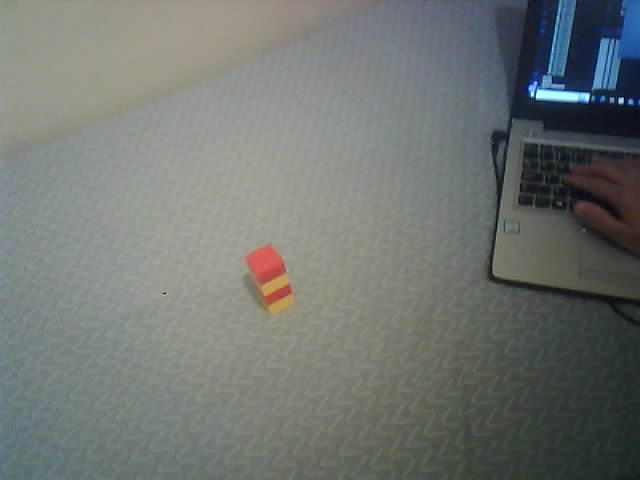lego: (244, 241, 294, 317)
